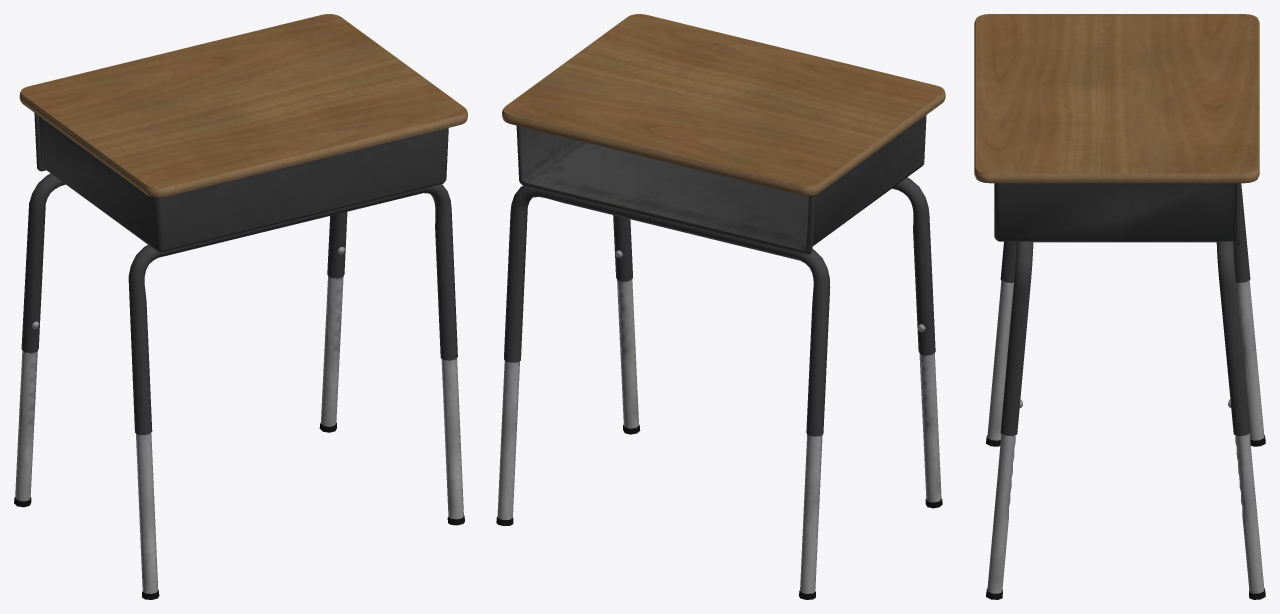
File: ph_schooldesk_01.glb
3 renders of one model, left to right at view 1: azimuth 30°, elevation 25°; view 2: azimuth 150°, elevation 25°; view 3: azimuth 270°, elevation 25°, orthographic. The views are drawn at different scales.
Parts seen in each view (by area): view 1: SchoolDesk_01; view 2: SchoolDesk_01; view 3: SchoolDesk_01.
Boxes of the visible parts, x1,y1,x2,y2 form: SchoolDesk_01: (14,14,467,599); SchoolDesk_01: (496,14,945,599); SchoolDesk_01: (974,14,1265,599).
Bounding box in the file's own units: 0.7118 × 0.8826 × 0.546.
1 material, 1 textured.
